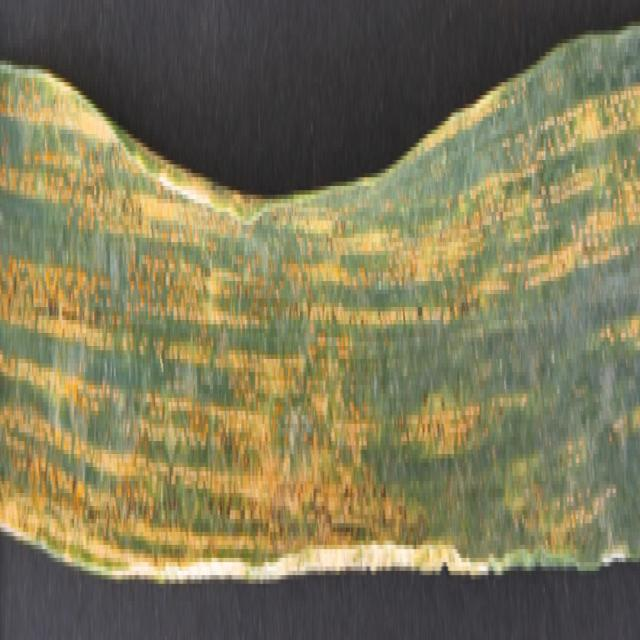leaf rust: (1, 4, 640, 571)
